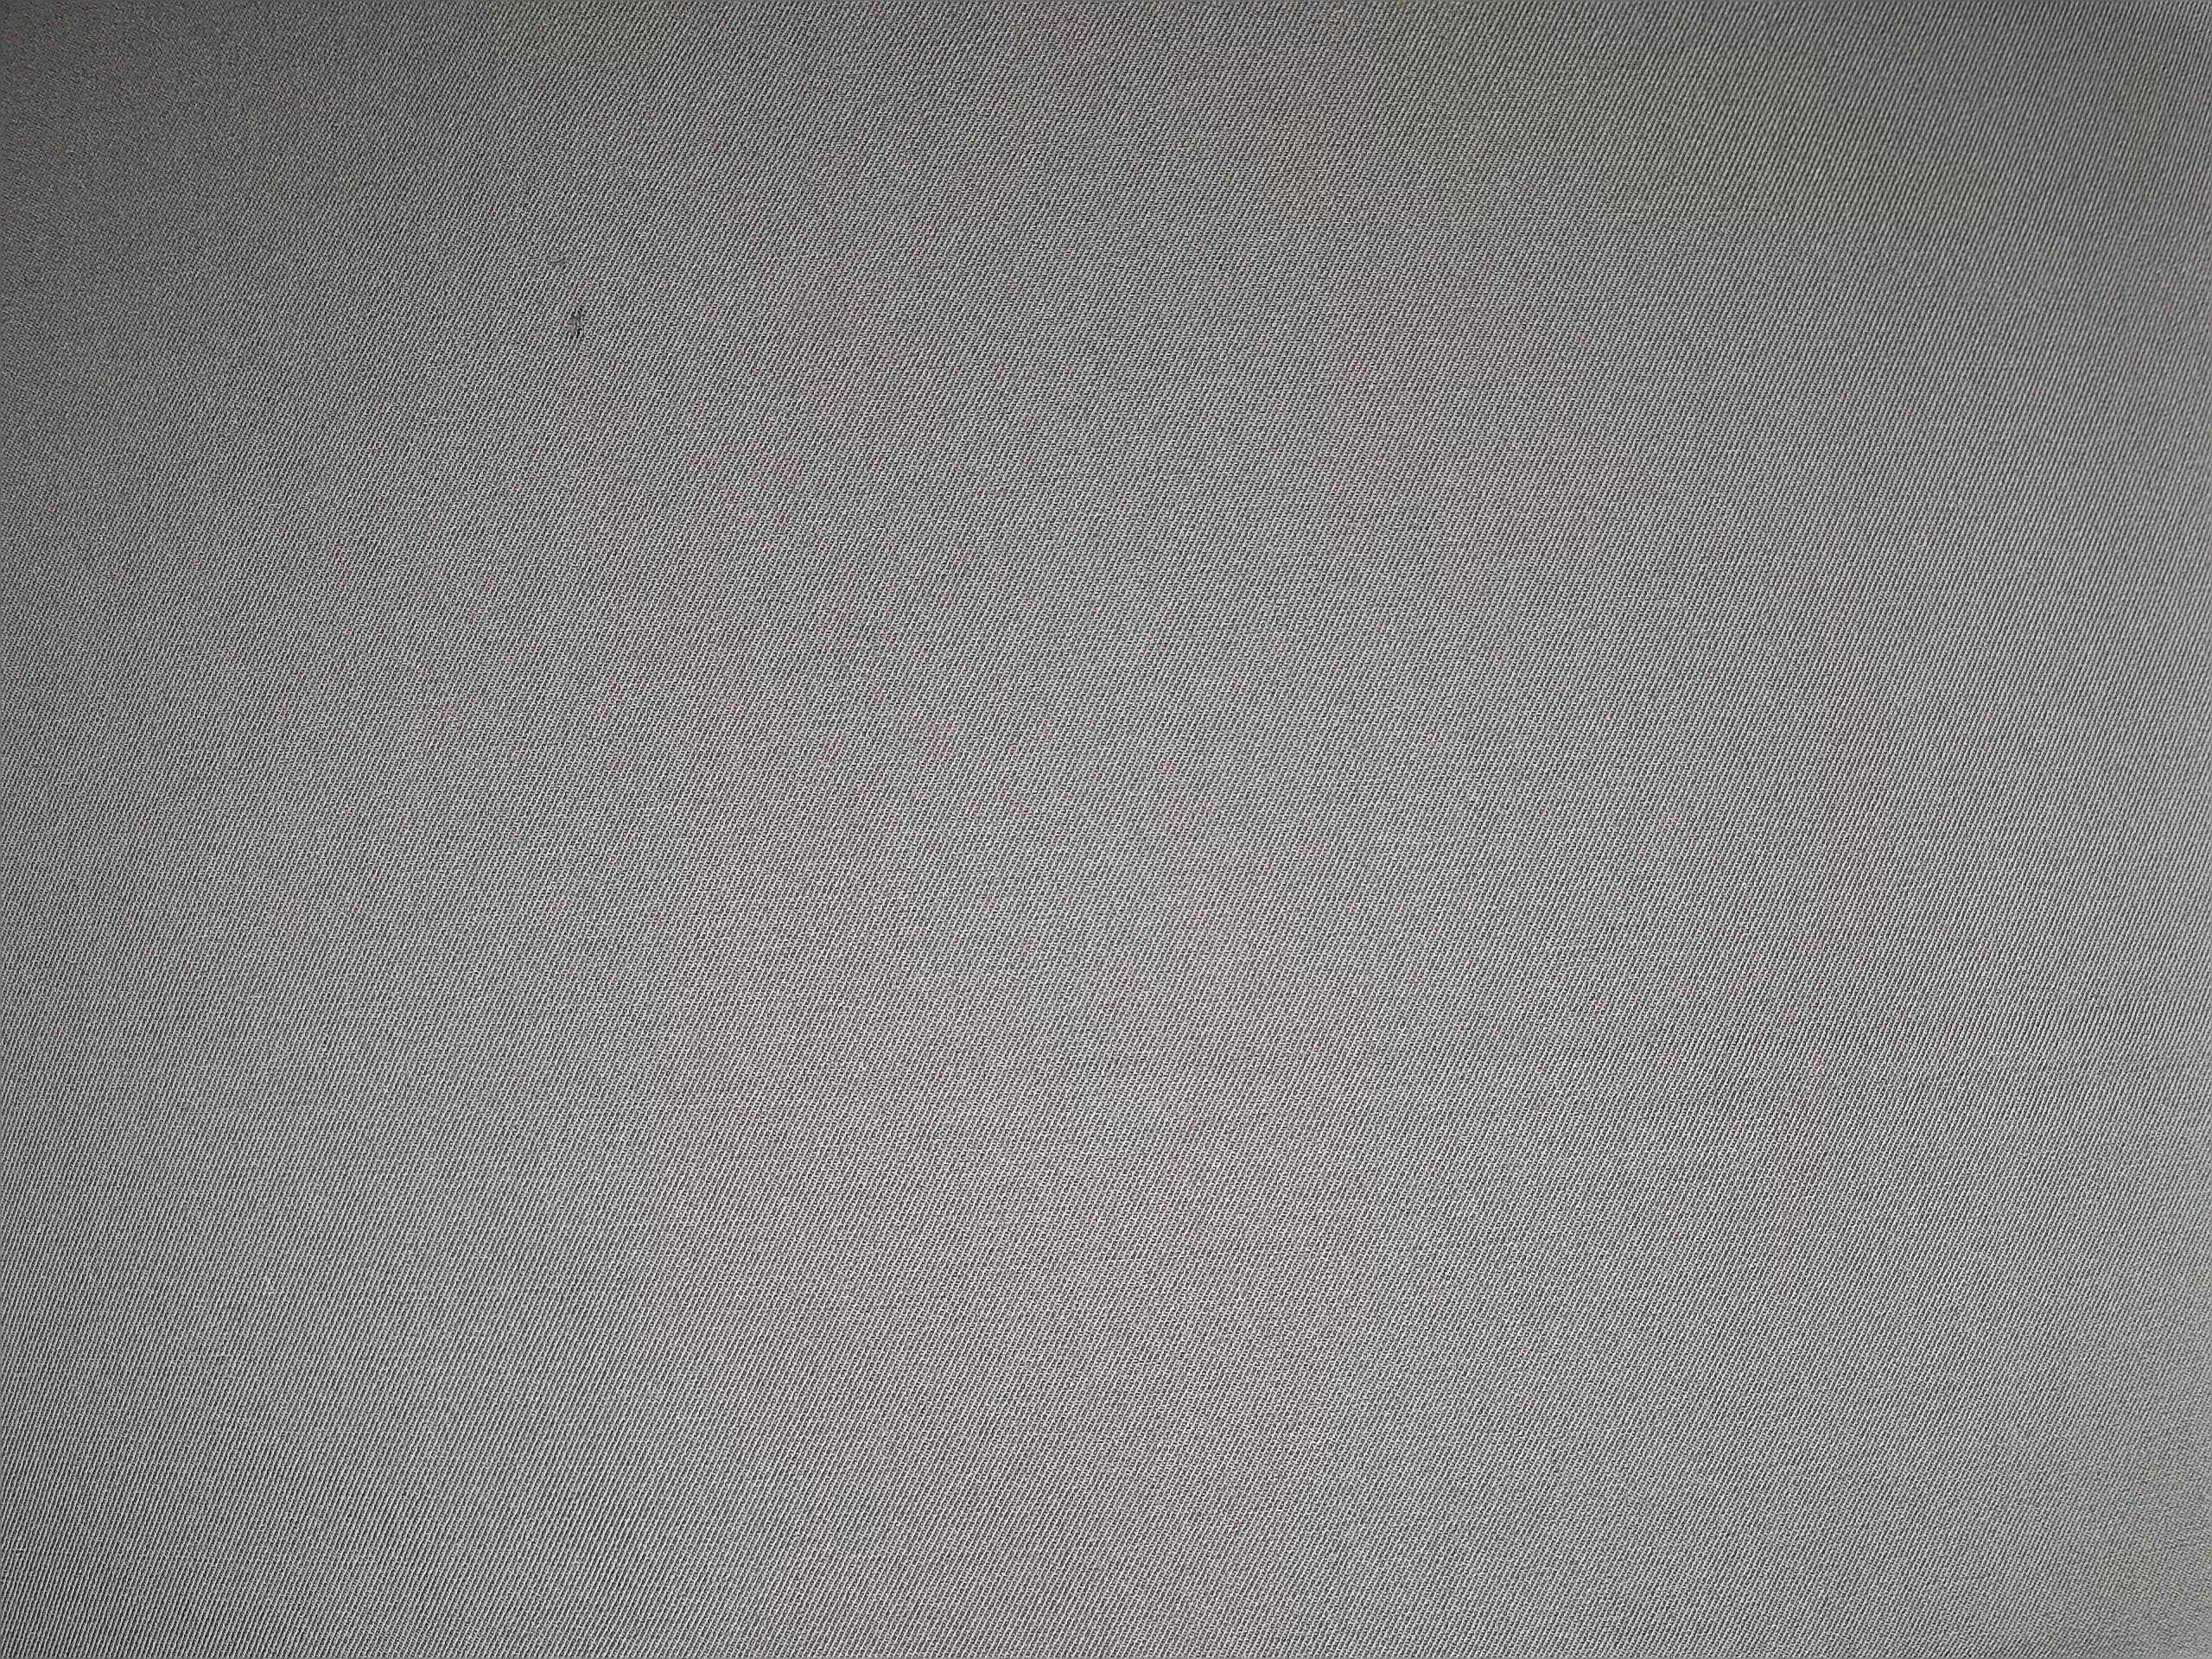hole: (550, 288, 606, 355)
